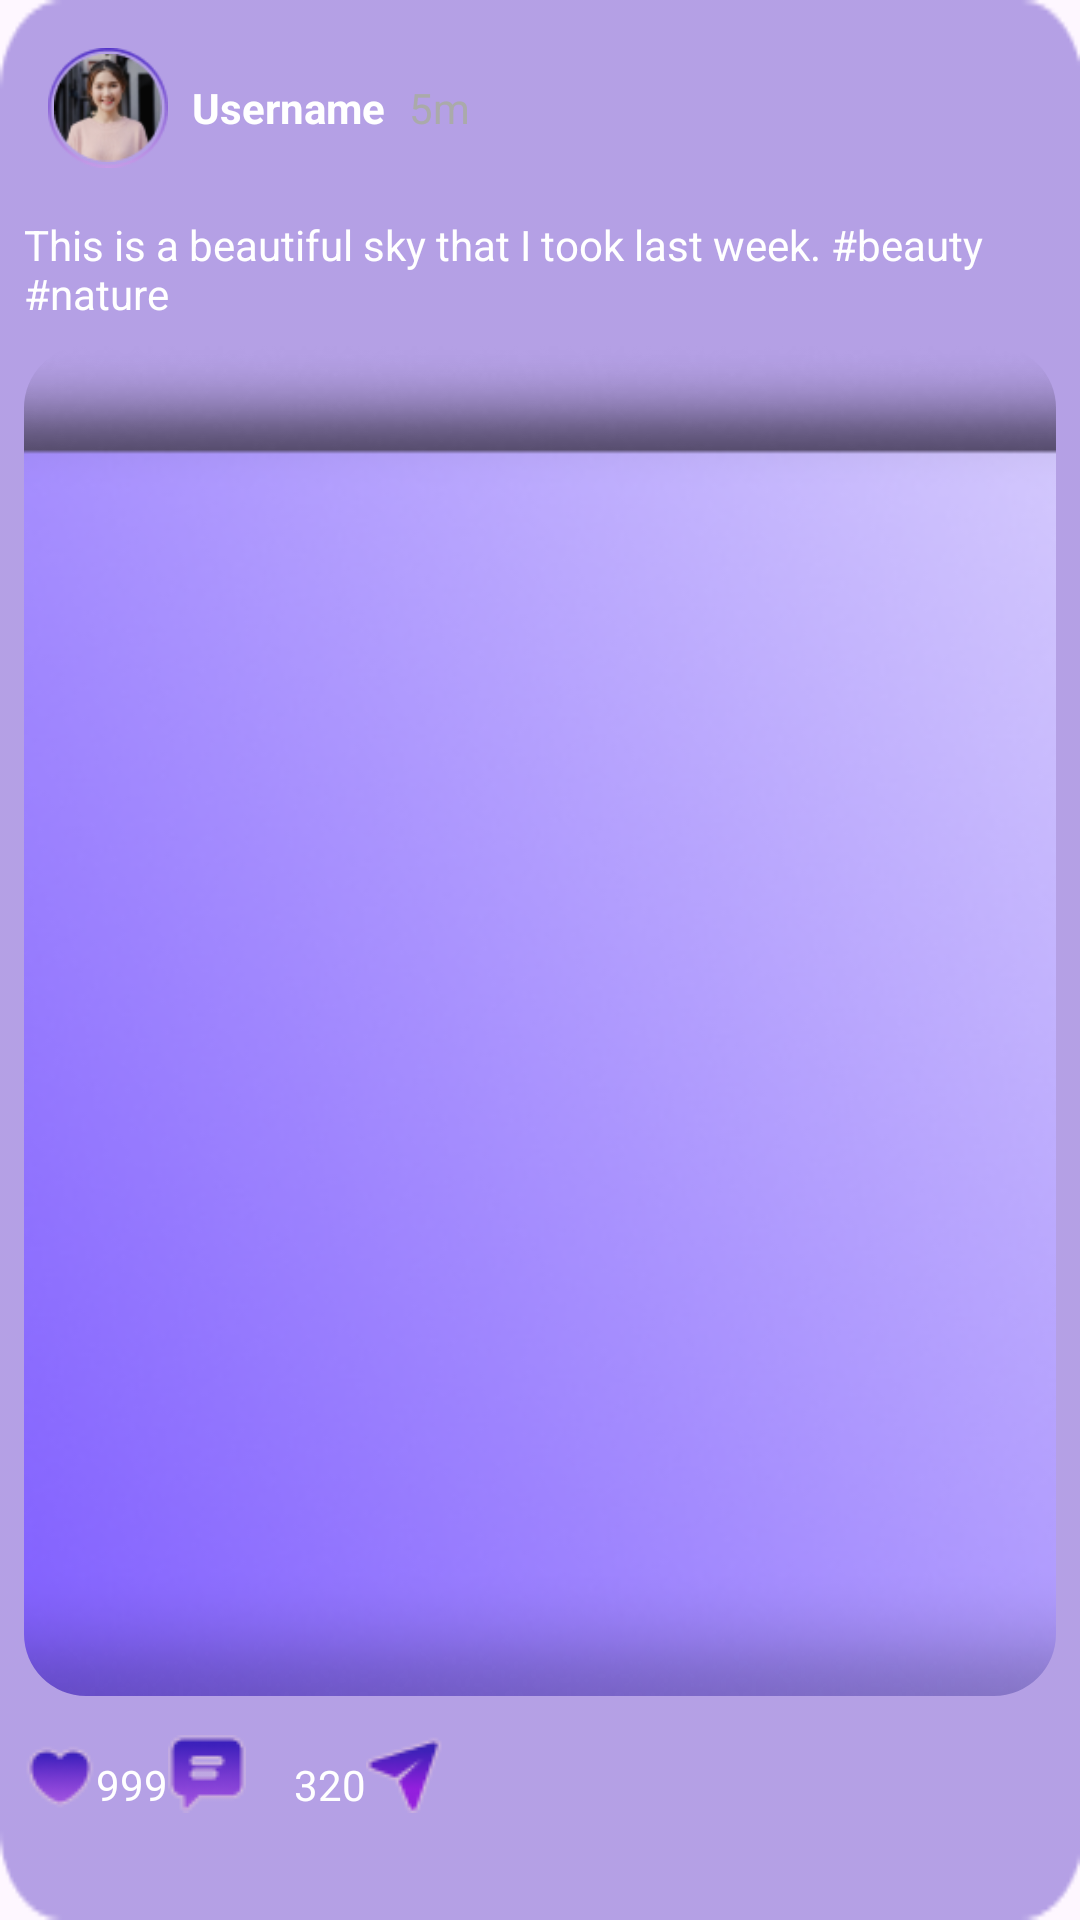

Screen size 1080px x 1920px. Icon name, then its center in pixels as [x,y]:
heart: [60,1777]
messageicon: [207,1772]
sendicon: [403,1775]
